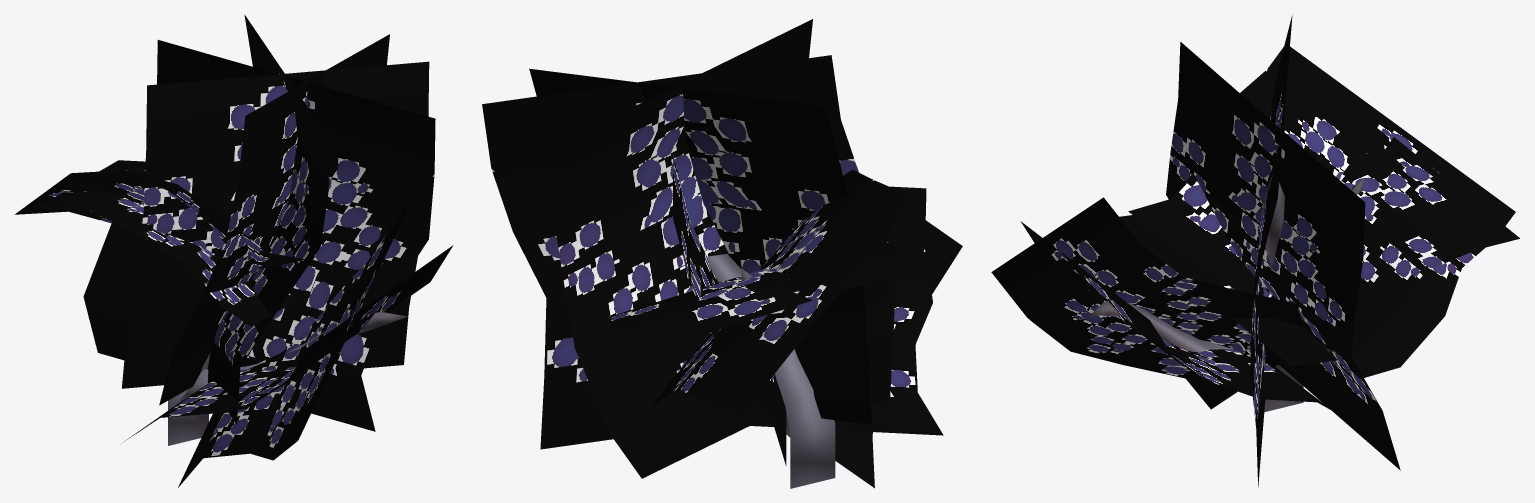
The model's file is Sunken Tomb Bush.fbx.
The picture shows the model from 3 angles, left to right: view 1: azimuth 30°, elevation 25°; view 2: azimuth 150°, elevation 25°; view 3: azimuth 270°, elevation 25°; orthographic projection. The views are drawn at different scales.
Visible parts, largest first — view 1: Bush; view 2: Bush; view 3: Bush.
Part boxes in pixels (x1=…): Bush: x1=15, y1=14, x2=453, y2=487; Bush: x1=482, y1=19, x2=962, y2=488; Bush: x1=991, y1=15, x2=1519, y2=487.
Bounding box in the file's own units: 564 × 549 × 659.
